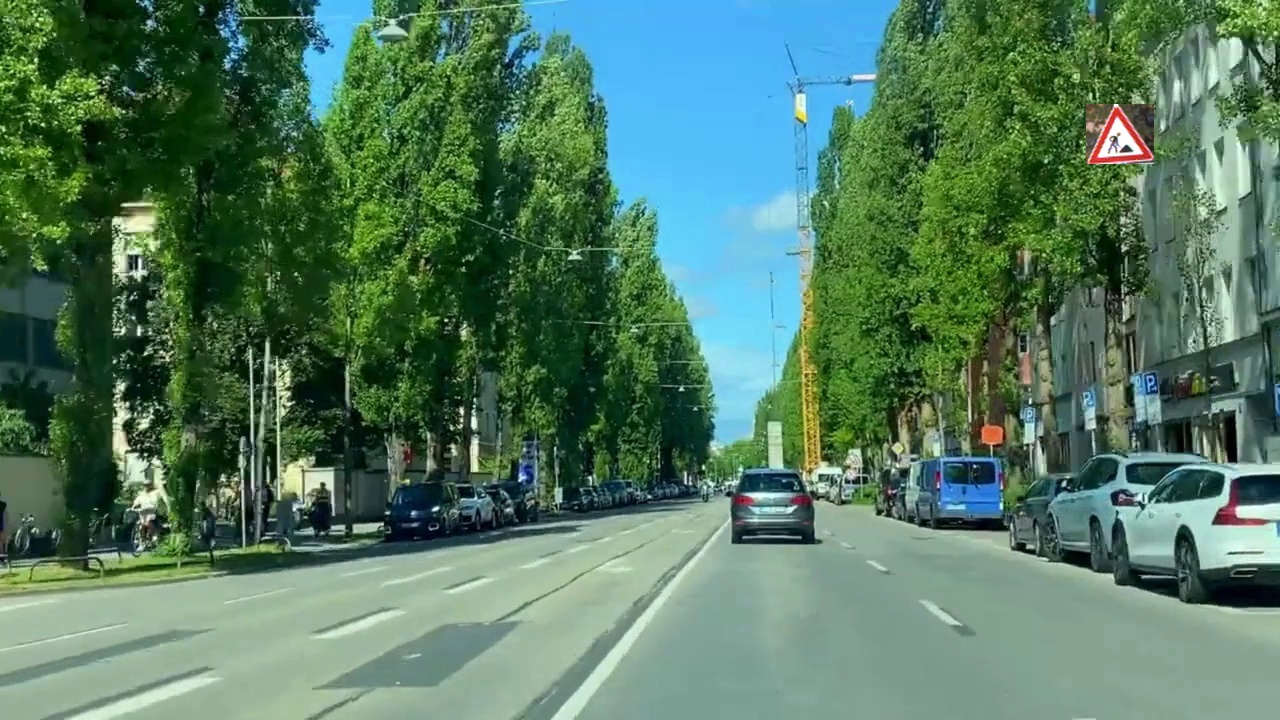Road work: (1086, 104, 1154, 164)
